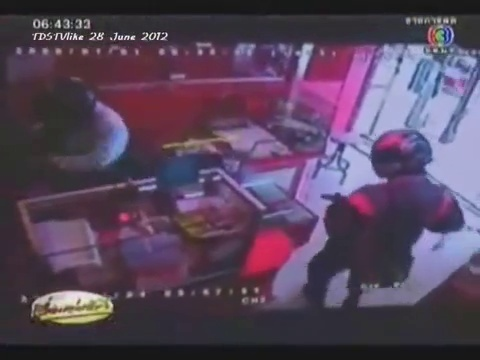helmet: (34, 71, 92, 131), (369, 123, 434, 176)
